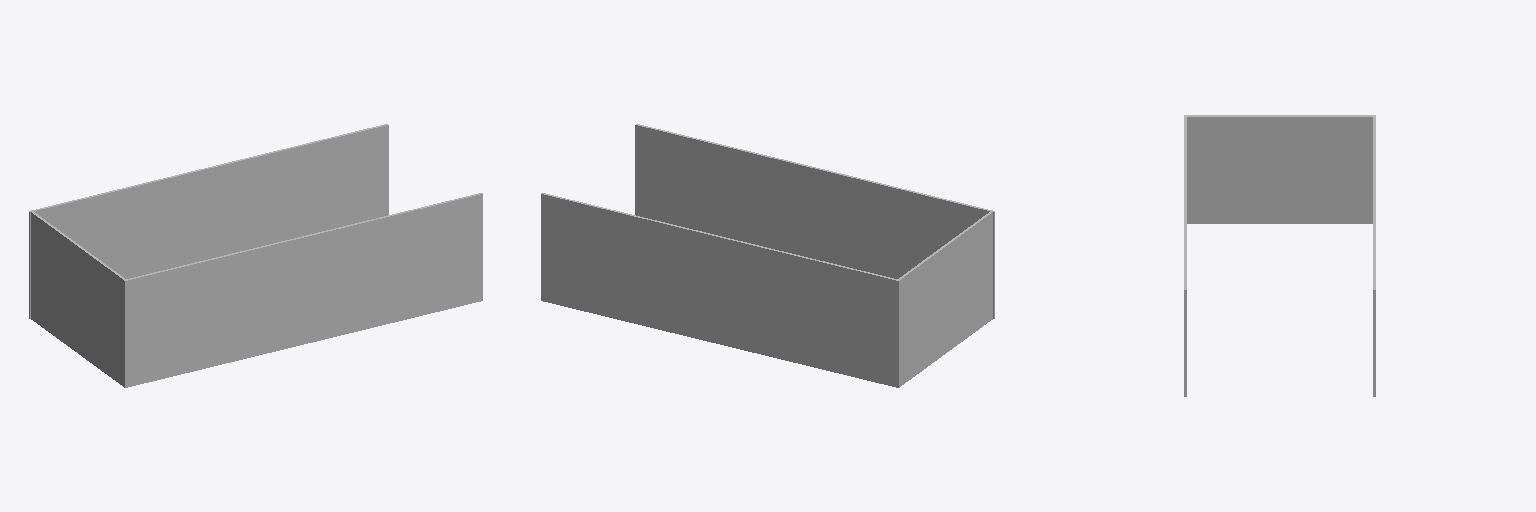
The model's file is bank_inside_walls.obj.
3 renders of one model, left to right at view 1: azimuth 30°, elevation 25°; view 2: azimuth 150°, elevation 25°; view 3: azimuth 270°, elevation 25°, orthographic.
Parts seen in each view (by area): view 1: Cube, Cube.003, Cube.002; view 2: Cube.003, Cube, Cube.002; view 3: Cube.002, Cube, Cube.003.
Boxes of the visible parts, x1=… form: Cube: x1=123, y1=193, x2=482, y2=387; Cube.003: x1=29, y1=124, x2=388, y2=318; Cube.002: x1=31, y1=211, x2=127, y2=387; Cube.003: x1=541, y1=193, x2=900, y2=387; Cube: x1=635, y1=124, x2=994, y2=318; Cube.002: x1=896, y1=210, x2=993, y2=387; Cube.002: x1=1184, y1=115, x2=1374, y2=223; Cube: x1=1184, y1=115, x2=1186, y2=396; Cube.003: x1=1373, y1=115, x2=1375, y2=396.
Size of the model in its own units: 28 by 8 by 13.